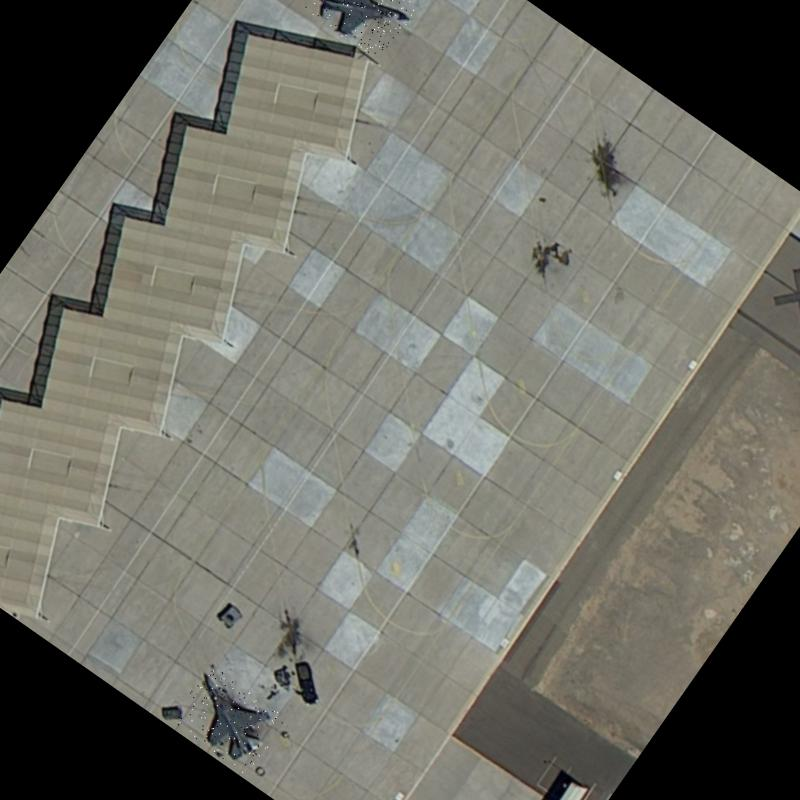A5: (170, 664, 288, 777), (303, 0, 419, 63)
